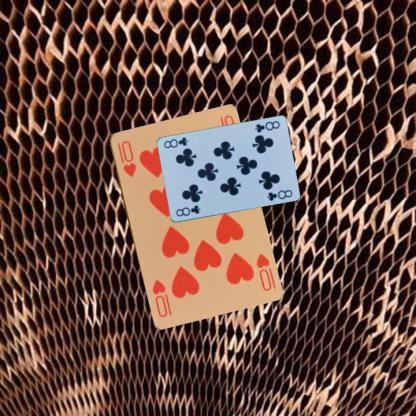10h: (114, 138, 137, 178), (253, 251, 273, 292)
8c: (252, 118, 281, 134), (173, 203, 202, 218)
